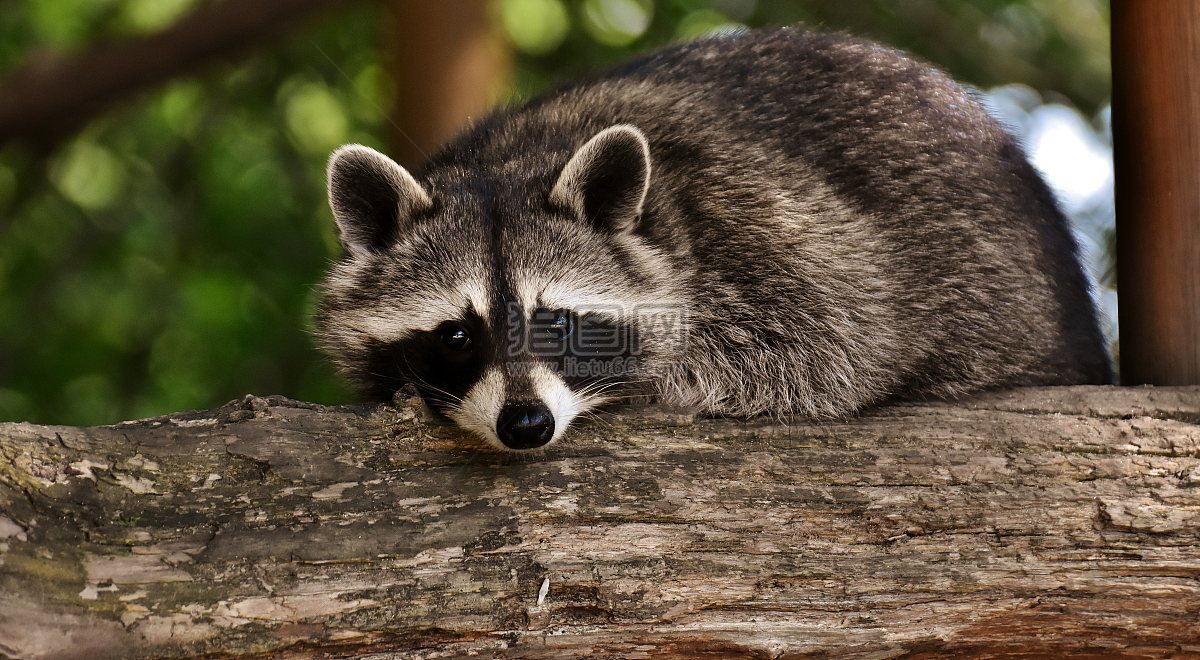raccoon: (304, 11, 1113, 456)
